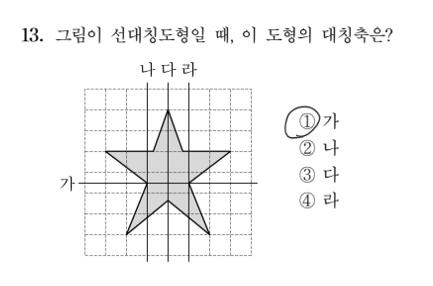1: (283, 104, 322, 139)
paper: (297, 110, 317, 132), (297, 136, 317, 158), (296, 164, 316, 186), (296, 189, 316, 211)
